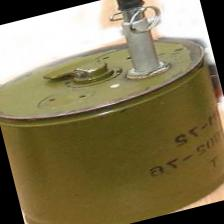OZM-72: (0, 5, 224, 224)
